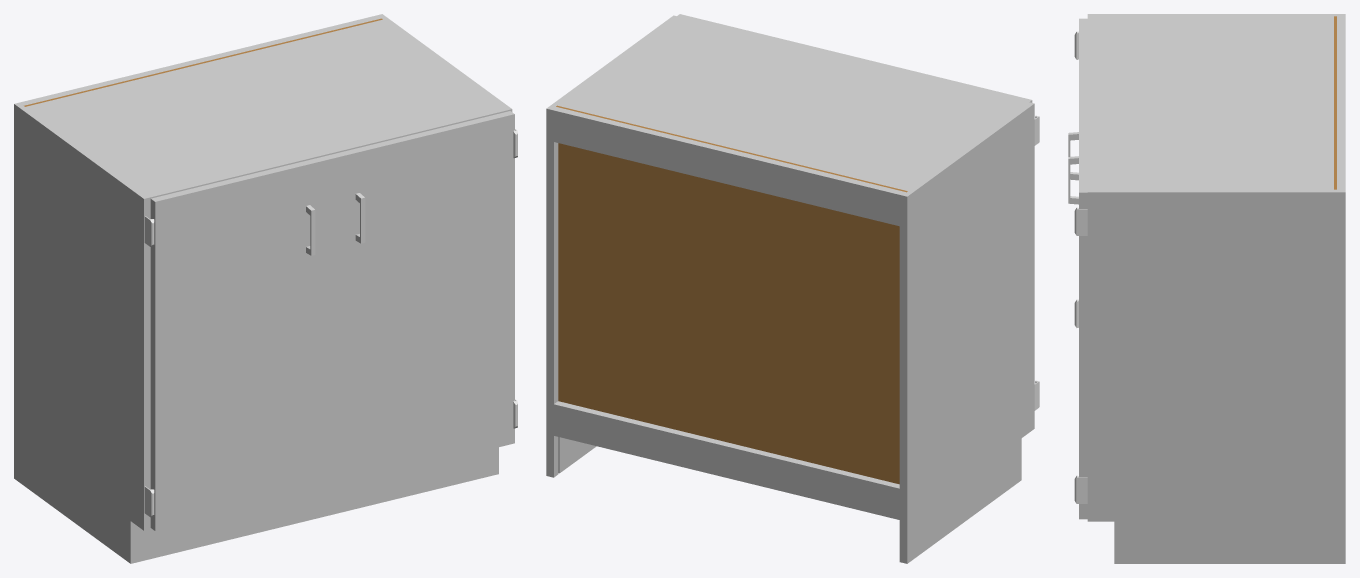
File: base_cabinet_36.gltf
3 views of the same model, side by side, from view 1: azimuth 30°, elevation 25°; view 2: azimuth 150°, elevation 25°; view 3: azimuth 270°, elevation 25° (orthographic). The views are drawn at different scales.
Visible parts, largest first — view 1: Mesh_12, Mesh_14, Mesh_4, Mesh_6, Mesh_7, Mesh_0, Mesh_3, Mesh_1; view 2: Mesh_1, Mesh_4, Mesh_6, Mesh_0, Mesh_2, Mesh_3, Mesh_12, Mesh_14; view 3: Mesh_3, Mesh_6, Mesh_14, Mesh_0, Mesh_4, Mesh_12, Mesh_1, Hinge.002, Hinge.003.
Boxes of the visible parts, x1,y1,x2,y2 form: Mesh_12: (150, 154, 337, 530); Mesh_14: (328, 111, 514, 486); Mesh_4: (14, 102, 151, 563); Mesh_6: (28, 20, 504, 198); Mesh_7: (130, 447, 498, 563); Mesh_0: (22, 16, 378, 104); Mesh_3: (375, 14, 512, 111); Mesh_1: (24, 18, 382, 106); Mesh_1: (556, 105, 907, 484); Mesh_4: (899, 101, 1034, 563); Mesh_6: (560, 17, 1026, 190); Mesh_0: (554, 107, 903, 226); Mesh_2: (554, 401, 899, 519); Mesh_3: (546, 15, 680, 477); Mesh_12: (851, 57, 1032, 102); Mesh_14: (677, 14, 858, 58); Mesh_3: (1087, 188, 1345, 563); Mesh_6: (1087, 17, 1333, 188); Mesh_14: (1079, 105, 1087, 519); Mesh_0: (1337, 17, 1345, 188); Mesh_4: (1087, 14, 1345, 17); Mesh_12: (1079, 18, 1087, 106); Mesh_1: (1334, 16, 1336, 189); Hinge.002: (1074, 475, 1087, 503); Hinge.003: (1074, 207, 1087, 235).
Size of the model in its own units: 0.9144 by 0.889 by 0.601.
